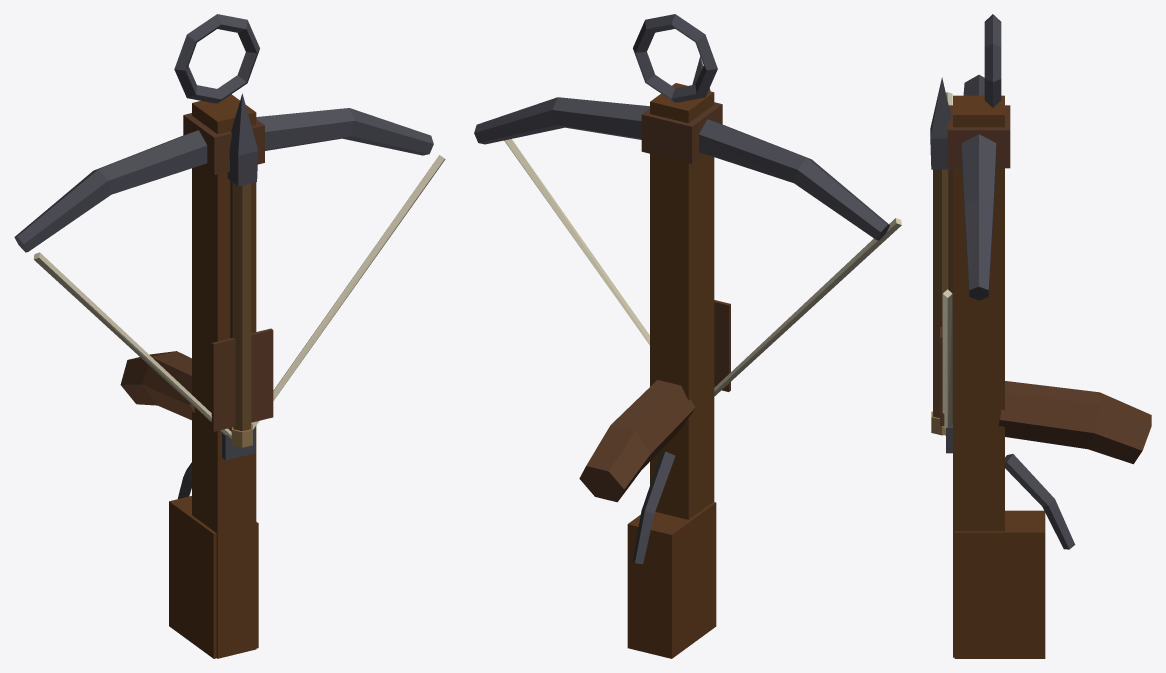
The model's file is weapon_crossbow_heavy.glb.
3 renders of one model, left to right at view 1: azimuth 30°, elevation 25°; view 2: azimuth 150°, elevation 25°; view 3: azimuth 270°, elevation 25°, orthographic.
Visible parts, largest first — view 1: weapon_crossbow_heavy, weapon_crossbow_heavy_bolt, weapon_crossbow_heavy_string; view 2: weapon_crossbow_heavy, weapon_crossbow_heavy_string, weapon_crossbow_heavy_bolt; view 3: weapon_crossbow_heavy, weapon_crossbow_heavy_bolt, weapon_crossbow_heavy_string.
Boxes of the visible parts, x1,y1,x2,y2 form: weapon_crossbow_heavy: (14, 14, 433, 658); weapon_crossbow_heavy_bolt: (211, 93, 273, 447); weapon_crossbow_heavy_string: (33, 155, 445, 438); weapon_crossbow_heavy: (474, 14, 889, 658); weapon_crossbow_heavy_string: (504, 139, 901, 396); weapon_crossbow_heavy_bolt: (692, 56, 730, 391); weapon_crossbow_heavy: (946, 14, 1151, 658); weapon_crossbow_heavy_bolt: (930, 77, 952, 435); weapon_crossbow_heavy_string: (942, 92, 952, 435).
Bounding box in the file's own units: 0.6942 × 1 × 0.3179.
